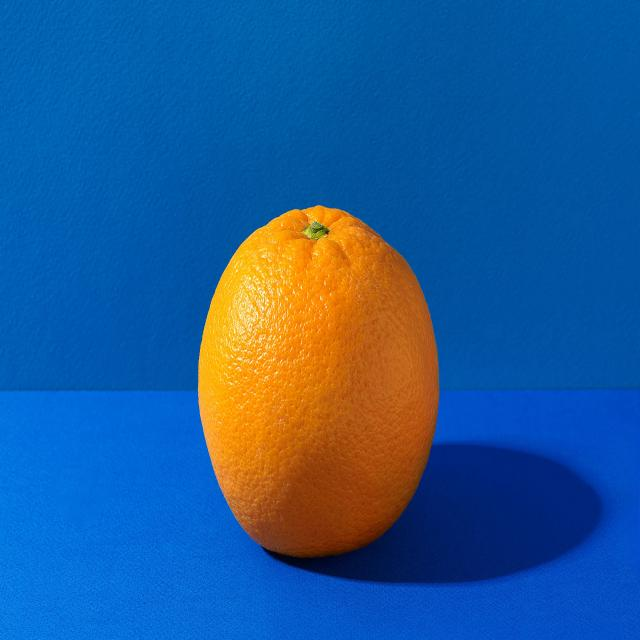orange: (195, 209, 437, 556)
